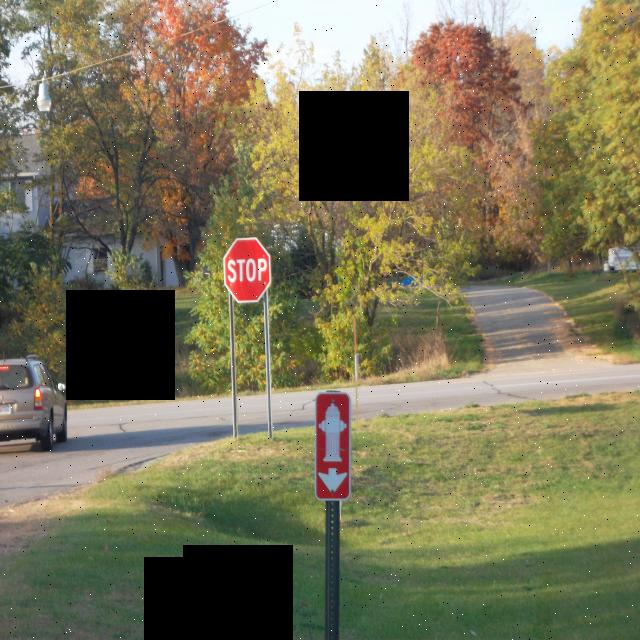stop: (218, 233, 274, 306)
